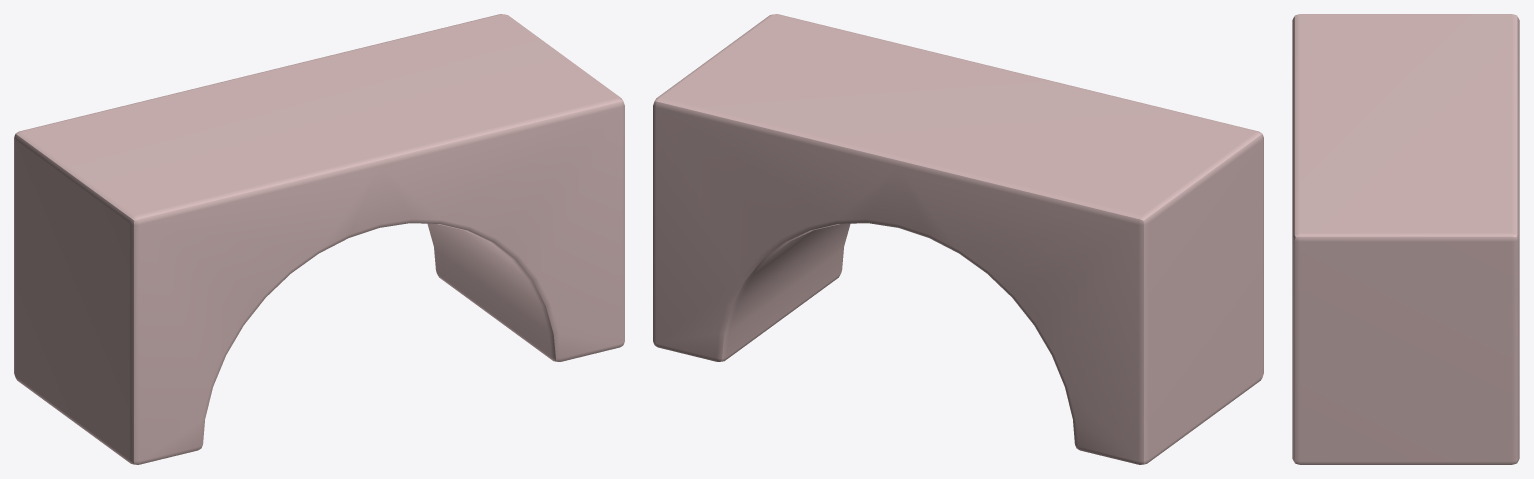
The model's file is Arch.fbx.
3 renders of one model, left to right at view 1: azimuth 30°, elevation 25°; view 2: azimuth 150°, elevation 25°; view 3: azimuth 270°, elevation 25°, orthographic. The views are drawn at different scales.
Parts seen in each view (by area): view 1: Arch; view 2: Arch; view 3: Arch.
Part boxes in pixels (box(x1,y1,x2,y2)): Arch: box(14, 14, 624, 464); Arch: box(653, 14, 1263, 464); Arch: box(1292, 14, 1519, 464).
Size of the model in its own units: 146 by 70.22 by 62.39.
